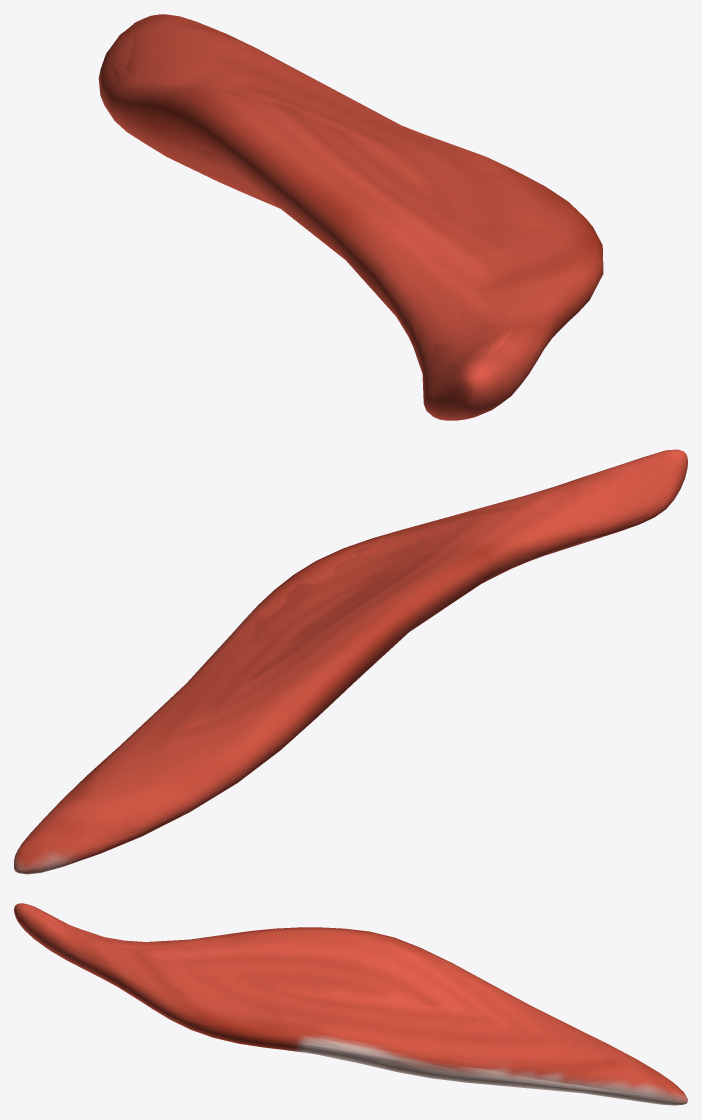
The model's file is R Pectoralis ascendens.fbx.
3 views of the same model, one above another, from view 1: azimuth 30°, elevation 25°; view 2: azimuth 150°, elevation 25°; view 3: azimuth 270°, elevation 25° (orthographic). The views are drawn at different scales.
Parts seen in each view (by area): view 1: R Pectoralis ascendens, R Pectoralis ascendens low; view 2: R Pectoralis ascendens, R Pectoralis ascendens low; view 3: R Pectoralis ascendens, R Pectoralis ascendens low.
Part boxes in pixels (<box>): R Pectoralis ascendens: <box>98,14,603,420</box>; R Pectoralis ascendens low: <box>108,17,603,418</box>; R Pectoralis ascendens: <box>14,449,687,874</box>; R Pectoralis ascendens low: <box>15,449,684,870</box>; R Pectoralis ascendens: <box>14,903,687,1105</box>; R Pectoralis ascendens low: <box>20,904,686,1103</box>.
Size of the model in its own units: 7.38 by 4.61 by 23.35.
